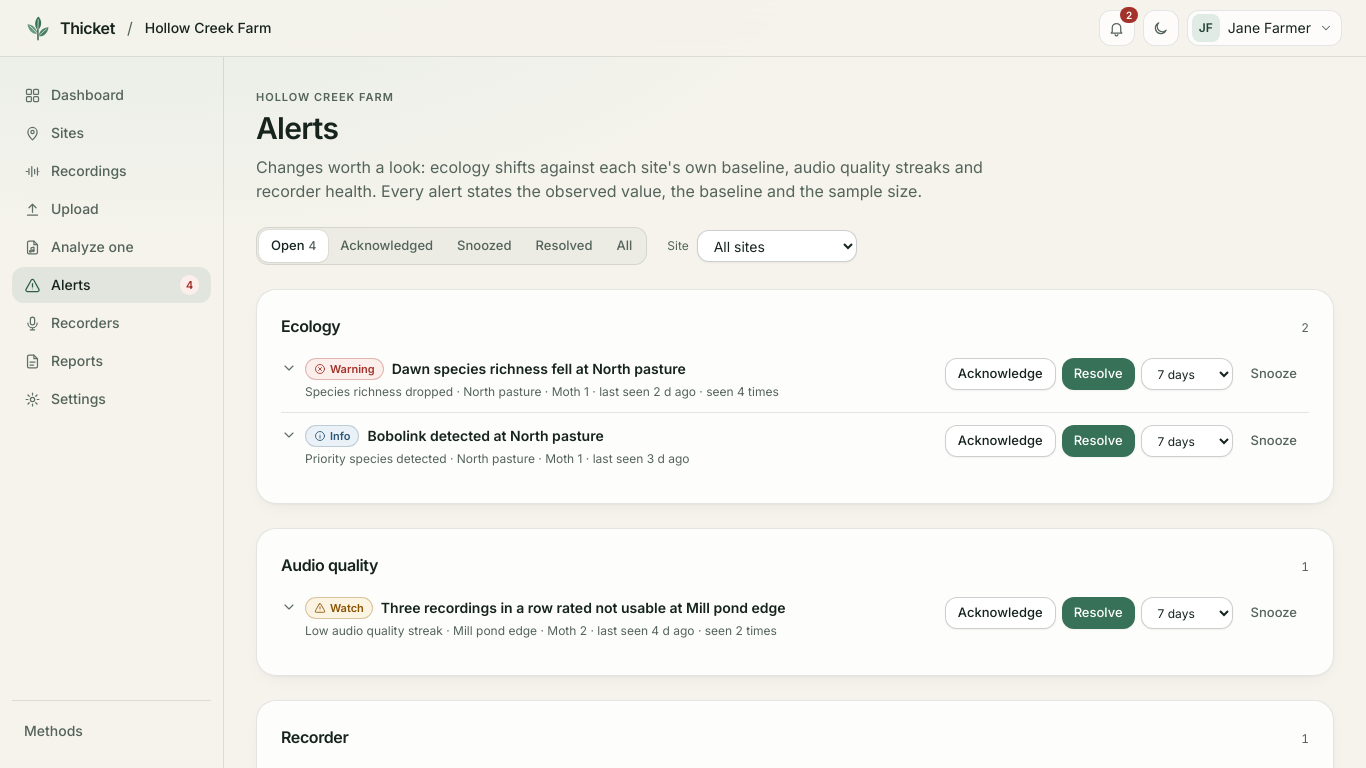
Test: alerts › shows a readable message when the server refuses an action
Click the 1st button "Resolve" at (1098, 374), box [1062,358,1135,390]
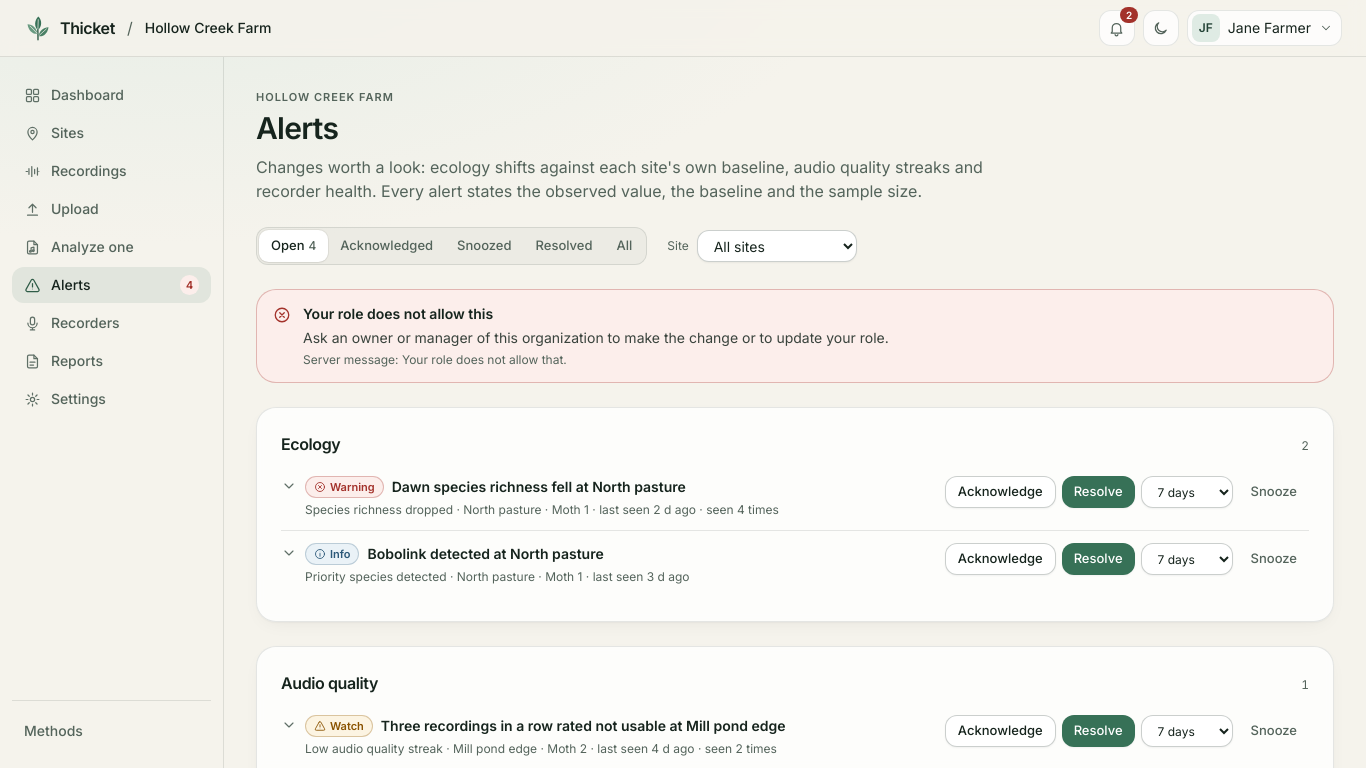
Expected: the text "Your role does not allow this" is shown, [303,305,493,322]
